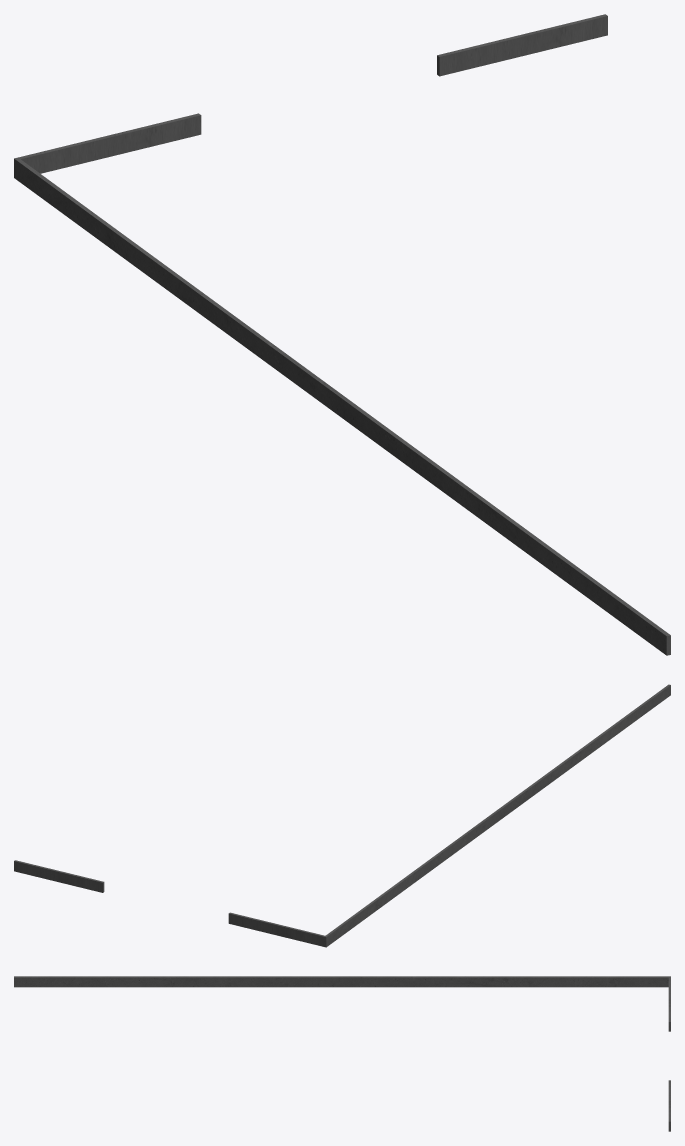
The model's file is plinthe au sol suite.fbx.
3 renders of one model, top to bottom at view 1: azimuth 30°, elevation 25°; view 2: azimuth 150°, elevation 25°; view 3: azimuth 270°, elevation 25°, orthographic. The views are drawn at different scales.
Parts seen in each view (by area): view 1: Plinthe au sol.011, Plinthe au sol.012, Plinthe au sol.018; view 2: Plinthe au sol.011, Plinthe au sol.012, Plinthe au sol.018; view 3: Plinthe au sol.011.
Part boxes in pixels (<box>): Plinthe au sol.011: <box>14,157,670,655</box>; Plinthe au sol.012: <box>18,113,201,173</box>; Plinthe au sol.018: <box>437,14,607,76</box>; Plinthe au sol.011: <box>324,684,670,947</box>; Plinthe au sol.012: <box>228,912,324,946</box>; Plinthe au sol.018: <box>14,860,104,892</box>; Plinthe au sol.011: <box>14,976,670,987</box>.
Size of the model in its own units: 248 by 7.8 by 475.
1 material, 1 textured.
